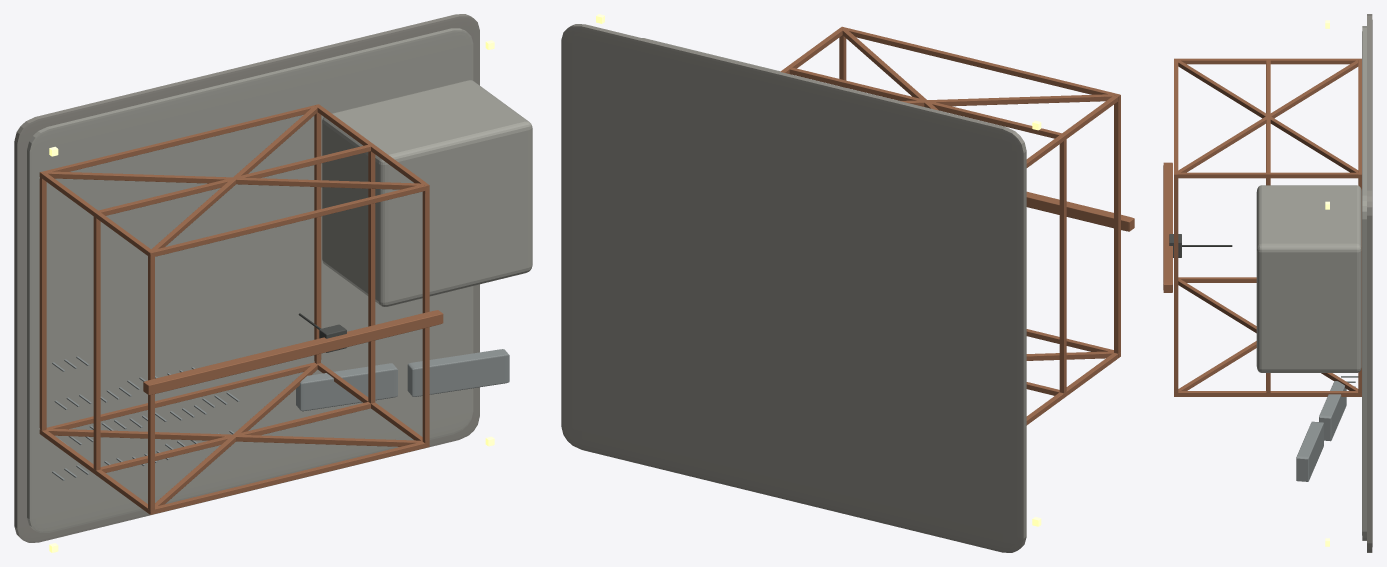
File: b-47-salvage-yard-lod2.glb
The picture shows the model from 3 angles, left to right: view 1: azimuth 30°, elevation 25°; view 2: azimuth 150°, elevation 25°; view 3: azimuth 270°, elevation 25°; orthographic projection. The views are drawn at different scales.
Visible parts, largest first — view 1: foundation_inner_pad, crusher_hall_main_hall, foundation, primary_salvage_gantry_bridge, salvage_conveyor_3, salvage_conveyor_1, primary_salvage_gantry_brace_a_4.25, primary_salvage_gantry_brace_a_-4.25, primary_salvage_gantry_beam_x_2_n, primary_salvage_gantry_beam_x_2_s, primary_salvage_gantry_beam_y_0_w, primary_salvage_gantry_beam_y_1_w (+14 smaller); view 2: foundation, primary_salvage_gantry_beam_x_2_n, primary_salvage_gantry_beam_y_1_w, primary_salvage_gantry_beam_x_1_n, primary_salvage_gantry_beam_y_2_w, primary_salvage_gantry_bridge, primary_salvage_gantry_brace_b_4.25, primary_salvage_gantry_column_w_n, primary_salvage_gantry_brace_a_4.25, primary_salvage_gantry_column_w_s; view 3: crusher_hall_main_hall, foundation, foundation_inner_pad, primary_salvage_gantry_brace_a_4.25, primary_salvage_gantry_brace_b_4.25, primary_salvage_gantry_bridge, primary_salvage_gantry_column_e_n, primary_salvage_gantry_column_w_n, salvage_conveyor_3, primary_salvage_gantry_beam_y_2_e, primary_salvage_gantry_column_e_s, salvage_conveyor_1 (+7 smaller).
Boxes of the visible parts, x1,y1,x2,y2 form: foundation_inner_pad: [27, 28, 473, 532]; crusher_hall_main_hall: [322, 80, 532, 306]; foundation: [14, 14, 479, 542]; primary_salvage_gantry_bridge: [143, 310, 443, 394]; salvage_conveyor_3: [407, 349, 509, 396]; salvage_conveyor_1: [296, 363, 397, 411]; primary_salvage_gantry_brace_a_4.25: [46, 171, 422, 189]; primary_salvage_gantry_brace_a_-4.25: [47, 428, 422, 446]; primary_salvage_gantry_beam_x_2_n: [148, 184, 429, 257]; primary_salvage_gantry_beam_x_2_s: [148, 441, 429, 514]; primary_salvage_gantry_beam_y_0_w: [39, 171, 46, 430]; primary_salvage_gantry_beam_y_1_w: [93, 211, 100, 470]; foundation: [561, 24, 1026, 552]; primary_salvage_gantry_beam_x_2_n: [843, 27, 1120, 100]; primary_salvage_gantry_beam_y_1_w: [1059, 139, 1066, 393]; primary_salvage_gantry_beam_x_1_n: [789, 67, 1065, 140]; primary_salvage_gantry_beam_y_2_w: [1114, 93, 1120, 353]; primary_salvage_gantry_bridge: [1026, 191, 1134, 231]; primary_salvage_gantry_brace_b_4.25: [900, 94, 1113, 106]; primary_salvage_gantry_column_w_n: [1026, 95, 1118, 167]; primary_salvage_gantry_brace_a_4.25: [842, 29, 938, 110]; primary_salvage_gantry_column_w_s: [1026, 353, 1118, 425]; crusher_hall_main_hall: [1256, 185, 1361, 372]; foundation: [1367, 14, 1372, 552]; foundation_inner_pad: [1362, 26, 1366, 540]; primary_salvage_gantry_brace_a_4.25: [1178, 60, 1358, 172]; primary_salvage_gantry_brace_b_4.25: [1178, 60, 1358, 172]; primary_salvage_gantry_bridge: [1163, 162, 1172, 292]; primary_salvage_gantry_column_e_n: [1178, 172, 1358, 178]; primary_salvage_gantry_column_w_n: [1178, 58, 1358, 64]; salvage_conveyor_3: [1296, 421, 1323, 481]; primary_salvage_gantry_beam_y_2_e: [1174, 172, 1178, 392]; primary_salvage_gantry_column_e_s: [1178, 391, 1358, 396]; salvage_conveyor_1: [1319, 381, 1346, 441].
Size of what is drawn, in the model's own units: 16 by 14 by 7.37.
